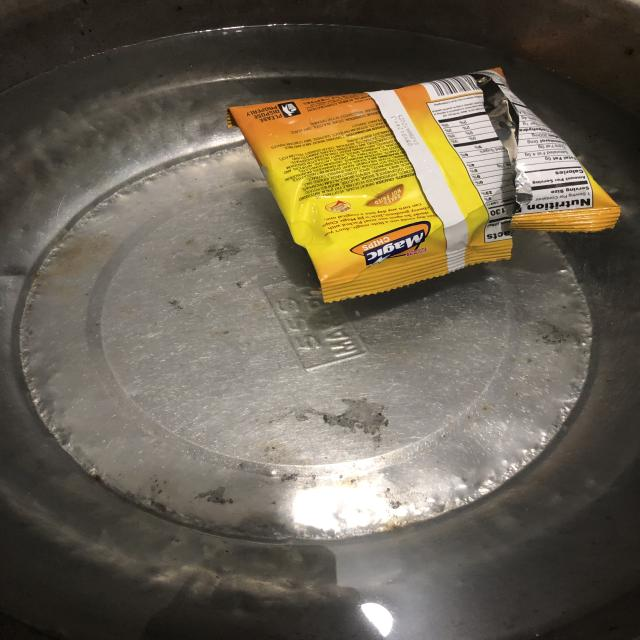Plastic Wrapper: (210, 47, 637, 320)
